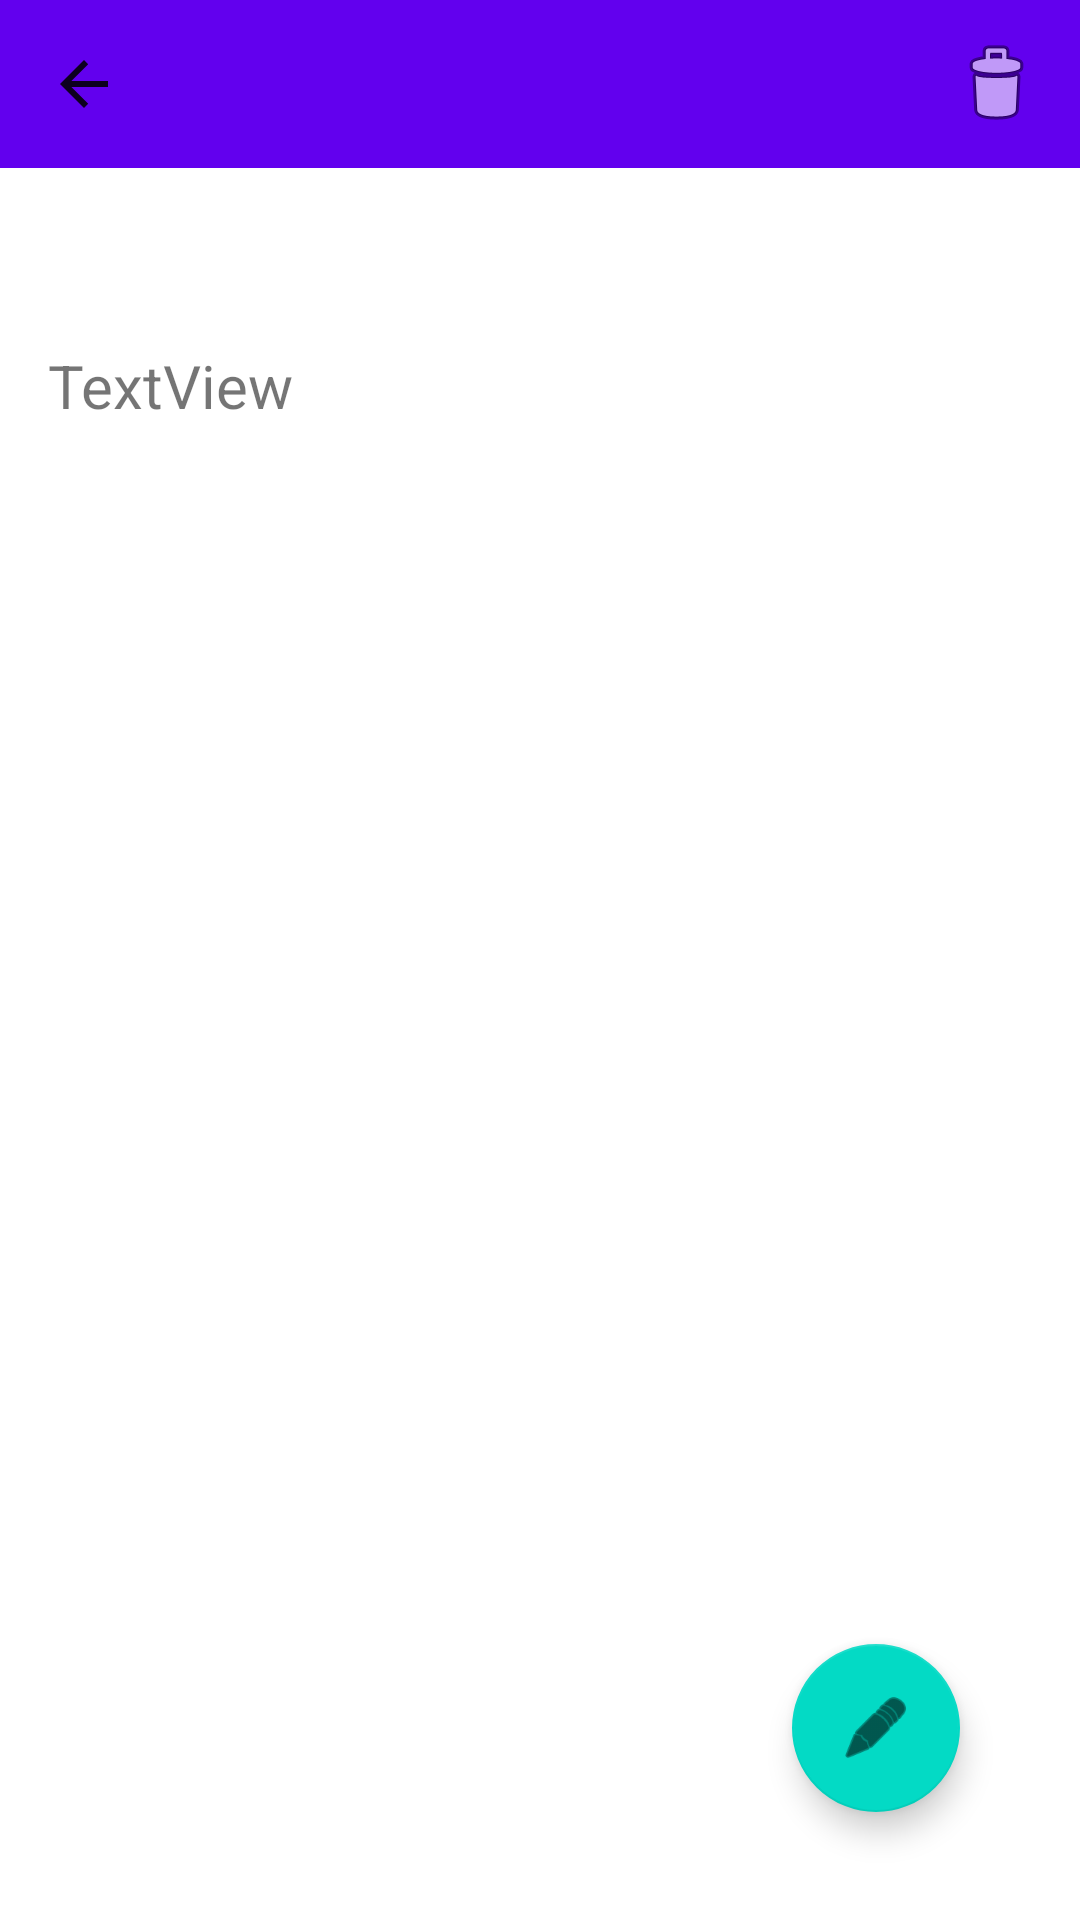

Point at icon controls on the screen. Image size 1080 x 1920, points as (x,y).
edit: (876,1728)
